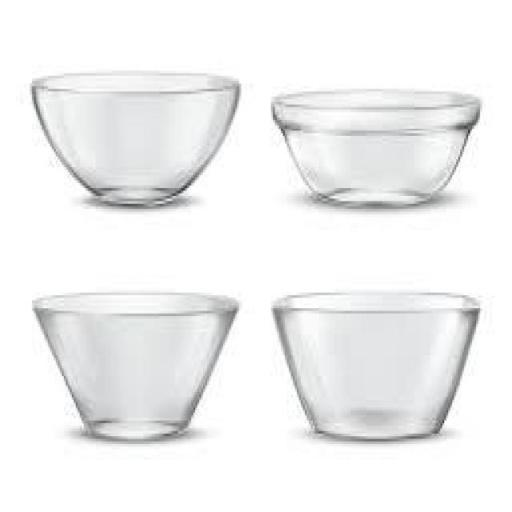glass: (33, 288, 238, 440), (275, 288, 479, 439), (30, 70, 238, 207), (272, 88, 479, 206)
